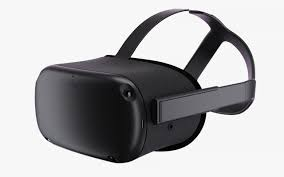oculus: (34, 46, 216, 166)
